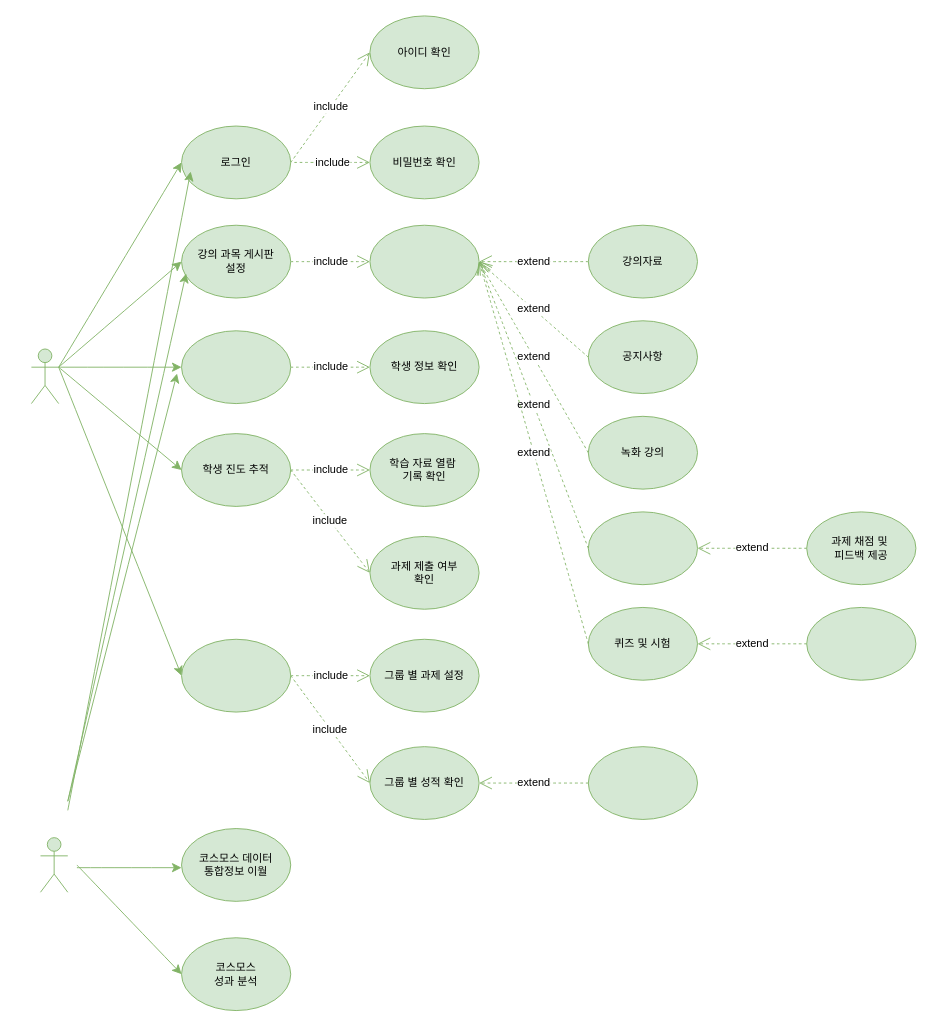
Some shapes in this 932 by 1026 pixel diagram are drawn without their labels. Each missing label, with the centre of its shape:
"Professor" belongs at point (44, 376).
"과제" belongs at point (642, 548).
"그룹 성과 평가" belongs at point (642, 782).
"대학 행정 관리자" belongs at point (54, 864).
"수강생 열람" belongs at point (236, 367).
"업로드" belongs at point (424, 261).
"퀴즈/시험 채점 및 피드백 제공" belongs at point (861, 643).
"학생 그룹 관리" belongs at point (236, 675).
